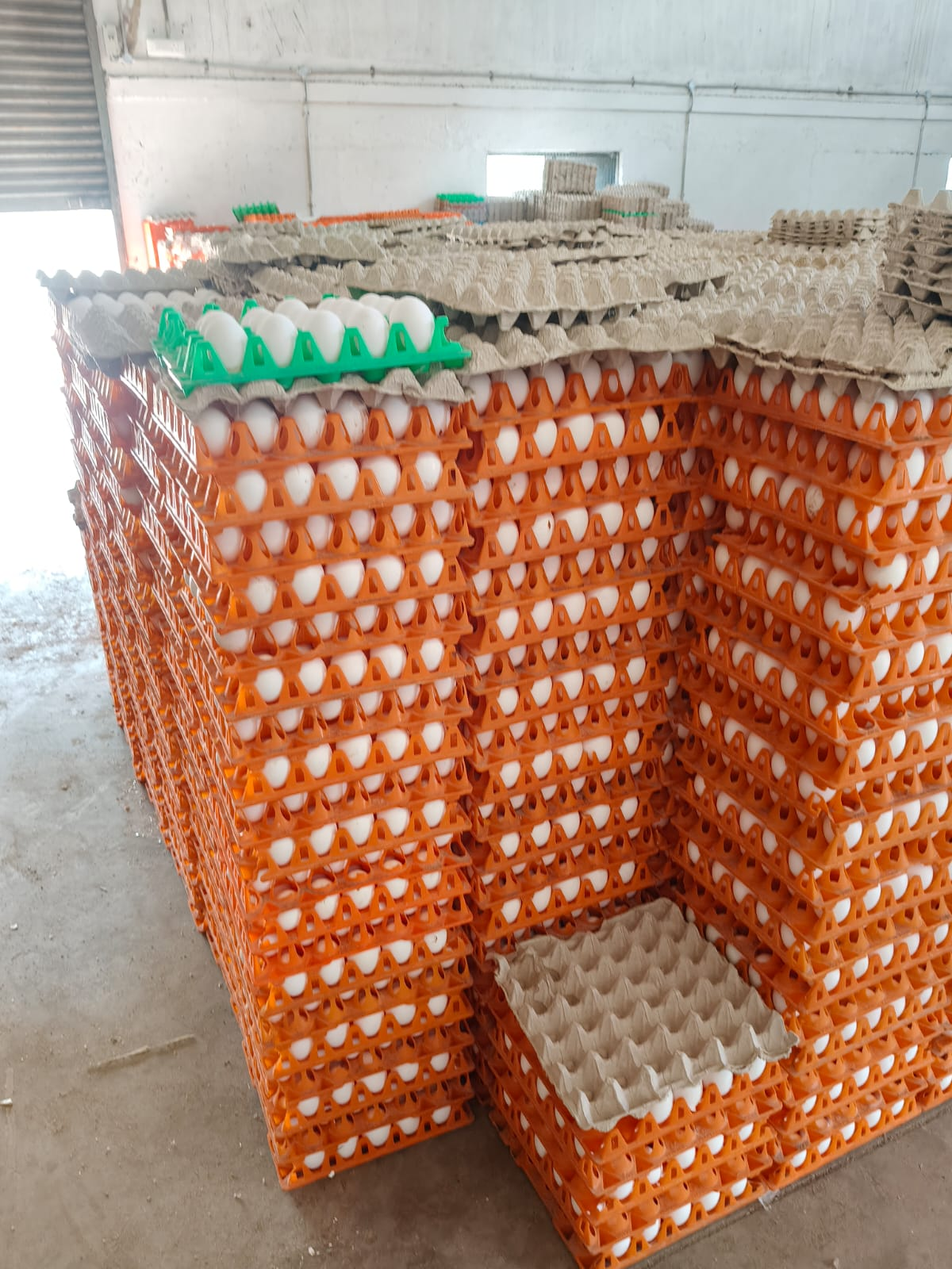egg_tray: (167, 392, 472, 461), (217, 533, 459, 607), (175, 312, 444, 368), (222, 450, 455, 510), (264, 1106, 480, 1168), (238, 776, 472, 823), (204, 595, 459, 637), (487, 855, 664, 914), (275, 996, 459, 1049), (214, 505, 463, 544), (283, 1062, 476, 1111), (473, 369, 692, 410), (235, 651, 446, 692), (222, 735, 476, 768), (251, 808, 448, 850), (476, 802, 673, 844), (508, 723, 679, 770), (497, 623, 669, 668), (510, 667, 664, 717), (495, 770, 692, 808), (489, 595, 683, 632), (487, 421, 652, 463), (275, 950, 446, 990), (254, 884, 476, 914), (487, 466, 664, 499), (222, 694, 472, 715), (489, 511, 664, 539), (495, 556, 664, 582)
